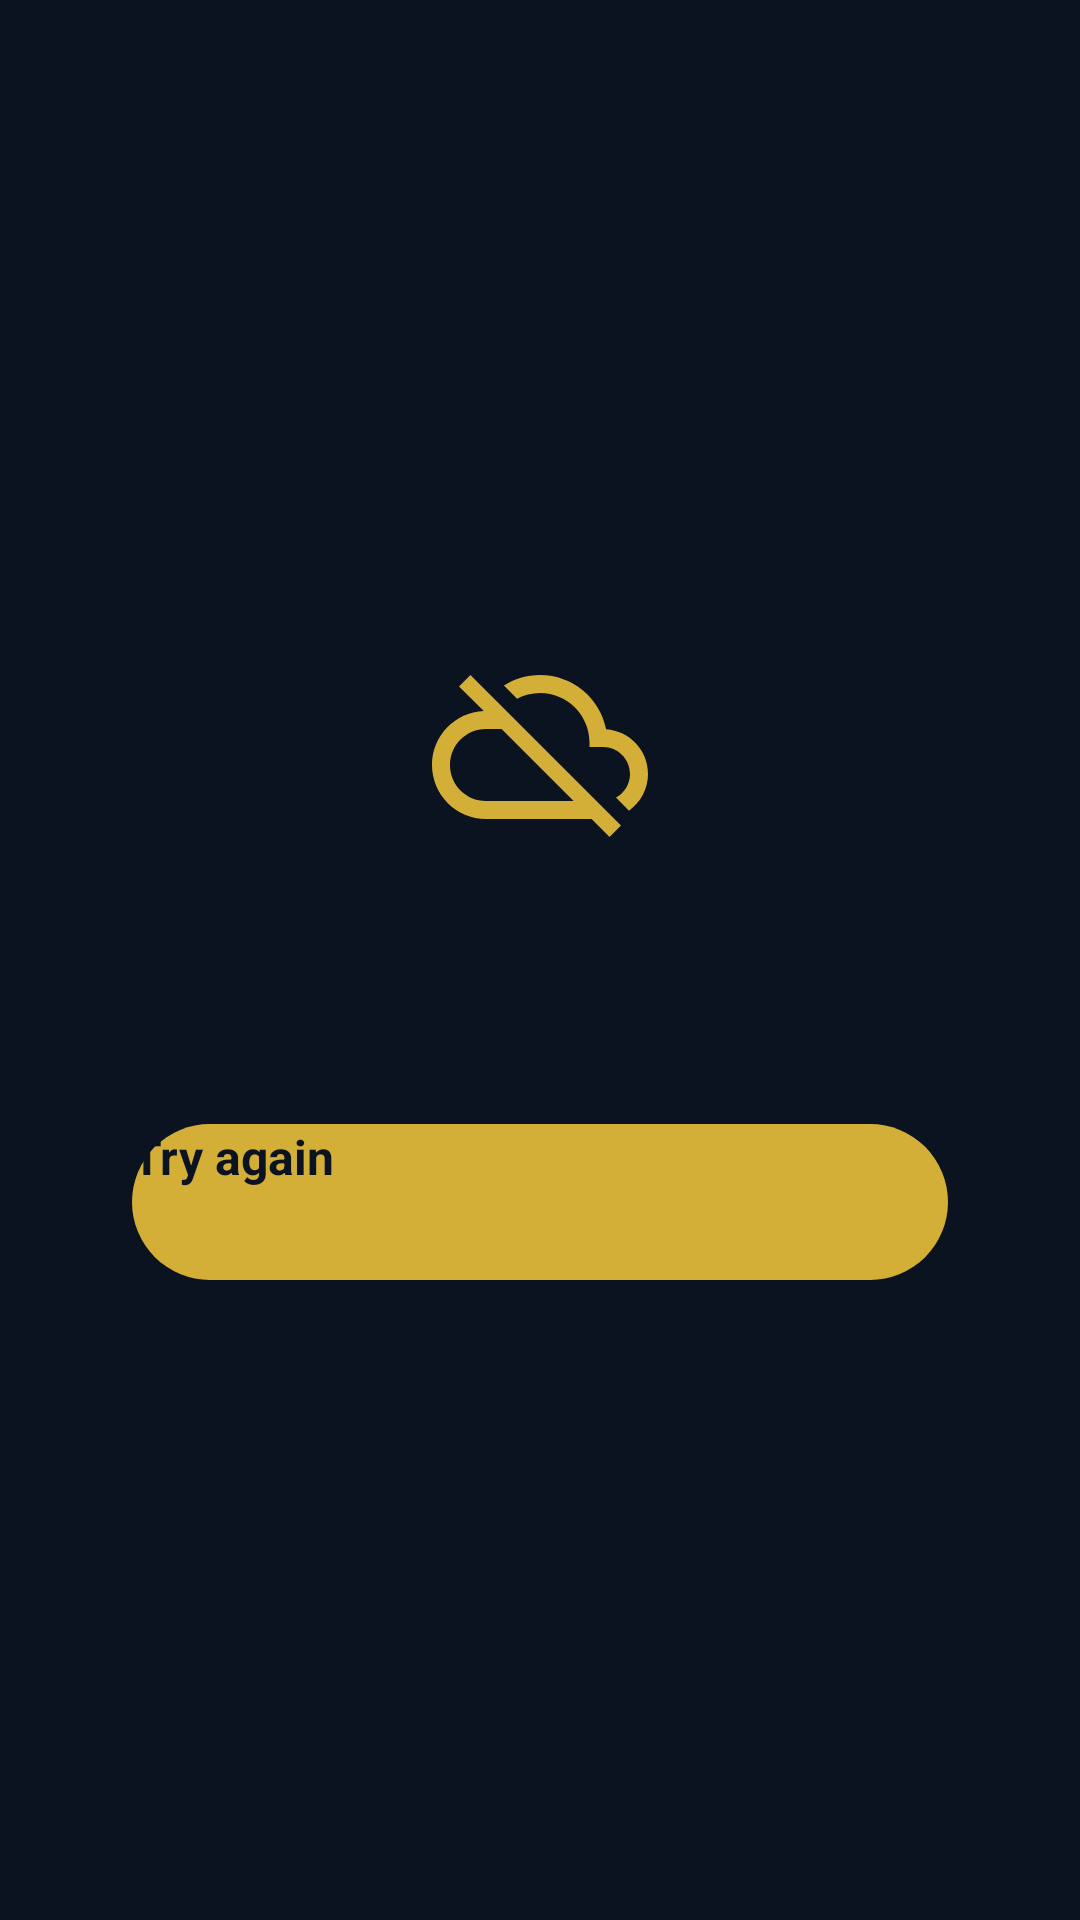

Icons on this 1080x1920 Android screen, each with the point to tap as (x,y):
Connection problem: (540,756)
